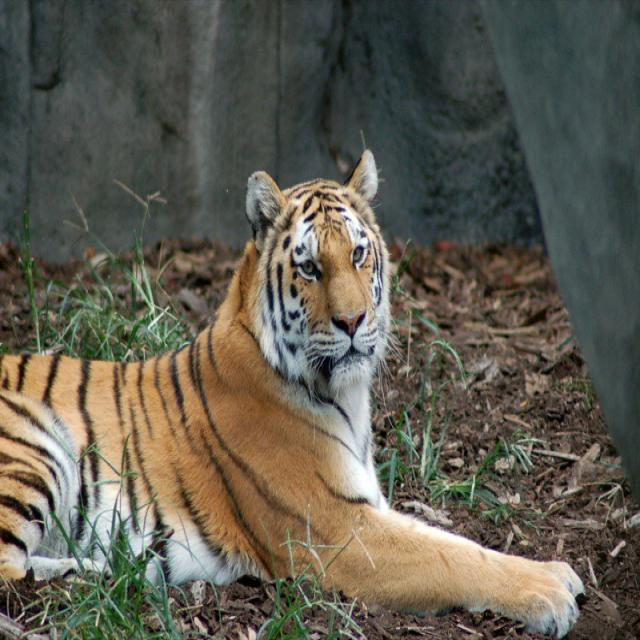Tiger: (0, 146, 587, 636)
